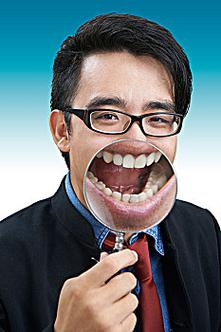张嘴: (88, 145, 179, 219)
